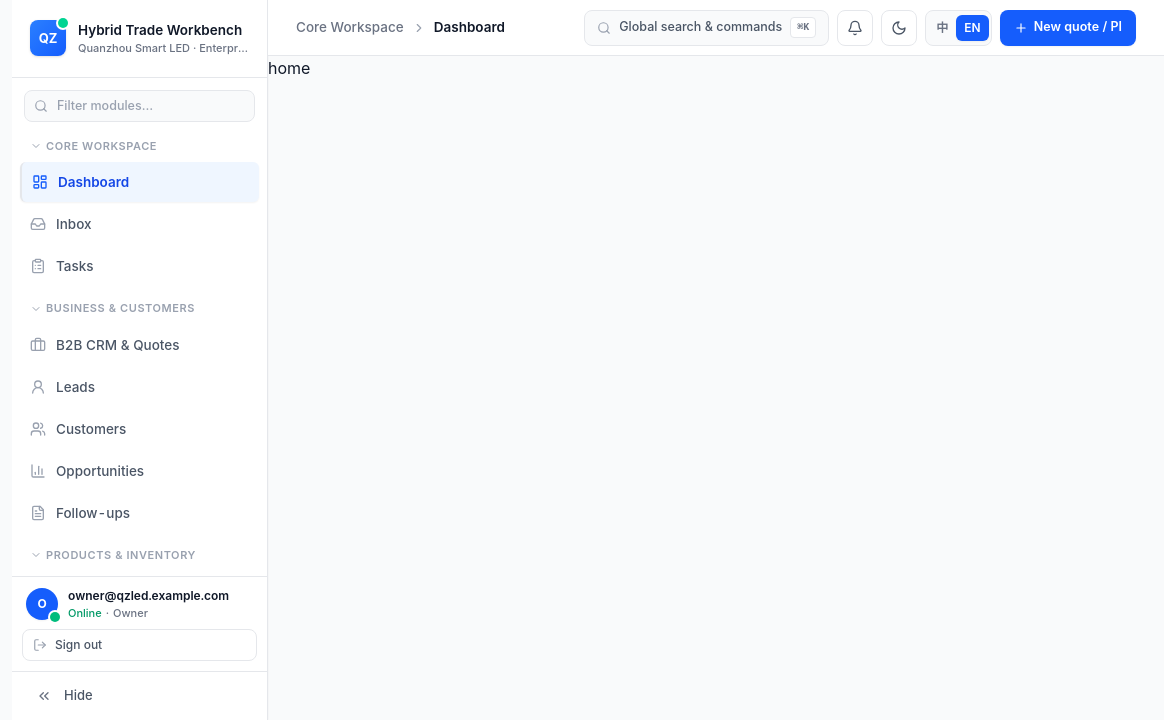
Test case: AppShell streamlined sidebar and Ctrl+K › keeps every route reachable in the icon rail when the sidebar is collapsed
This screenshot has width=1164, height=720.
Expected: the search field with test id "sidebar-filter-input" is shown, x1=24 y1=90 x2=255 y2=122
Click the button with test id "sidebar-collapse-btn": (140, 696) x1=12 y1=671 x2=267 y2=719
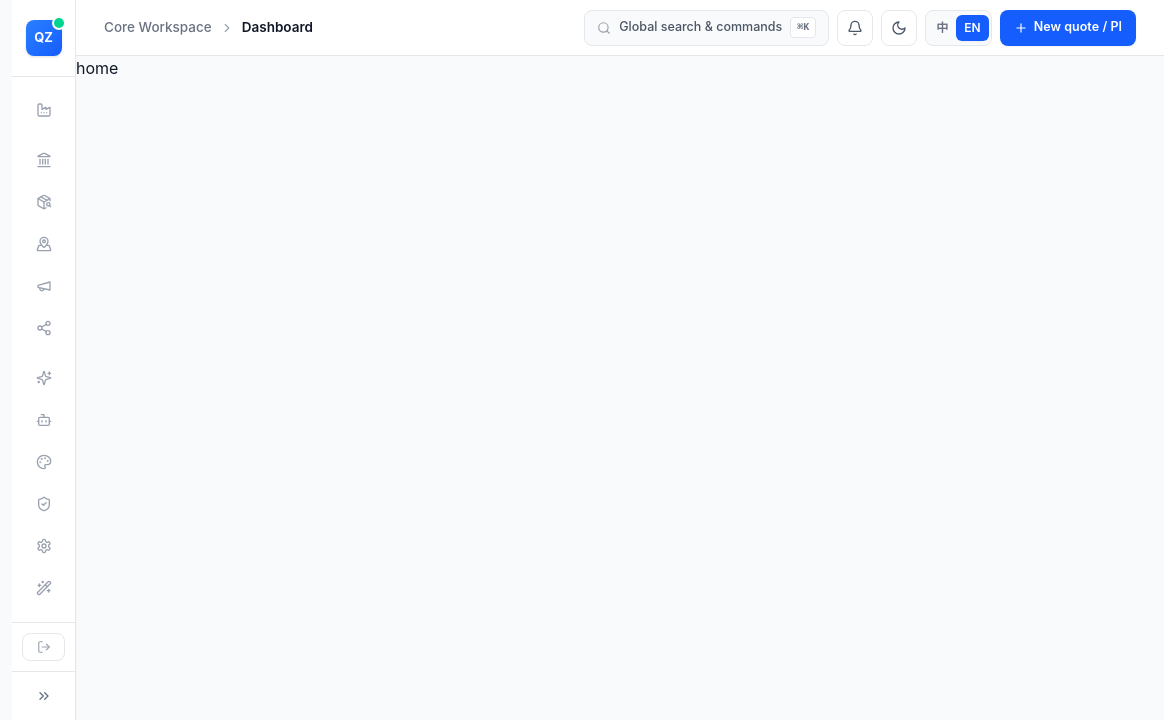
Expected: the search field with test id "sidebar-filter-input" is gone
Expected: the link titled "Finance & CVP" is shown, x1=36 y1=152 x2=52 y2=168
Expected: the link titled "AI Proposals" is shown, x1=36 y1=370 x2=52 y2=386
